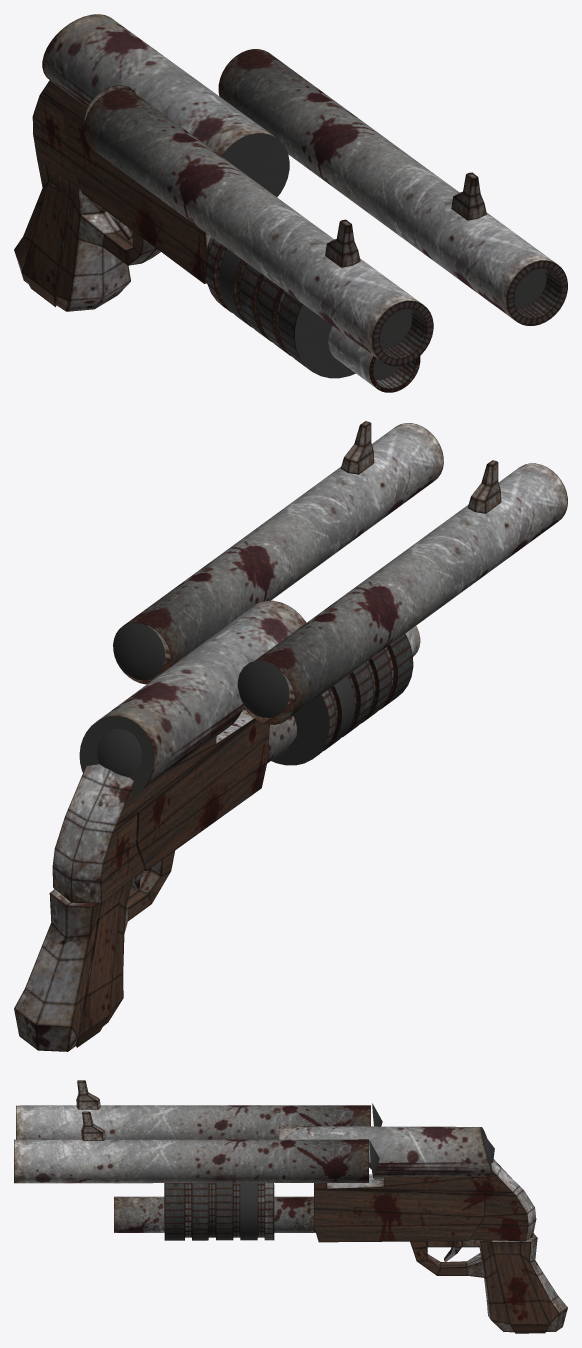
The model's file is gun.fbx.
3 renders of one model, top to bottom at view 1: azimuth 30°, elevation 25°; view 2: azimuth 150°, elevation 25°; view 3: azimuth 270°, elevation 25°, orthographic. The views are drawn at different scales.
Parts seen in each view (by area): view 1: CILINDER, pasted__CILINDER, CUBE.023, CUBE.010, CUBE.007, CILINDER.002, CILINDER.001, CUBE.025, CUBE.024; view 2: CILINDER, pasted__CILINDER, CUBE.007, CUBE.023, CUBE.010, CILINDER.002, pCone2, pCone3, pCone1, CILINDER.001, CUBE.024, CUBE.025; view 3: pasted__CILINDER, CUBE.007, CILINDER, CUBE.010, CUBE.023, CILINDER.002, CILINDER.001, CUBE.024, CUBE.025.
Boxes of the visible parts, x1,y1,x2,y2 form: CILINDER: (84,89,433,366); pasted__CILINDER: (218,49,567,325); CUBE.023: (42,14,289,197); CUBE.010: (14,160,160,311); CUBE.007: (32,80,210,283); CILINDER.002: (205,239,355,378); CILINDER.001: (207,237,420,392); CUBE.025: (451,172,486,220); CUBE.024: (325,219,360,267); CILINDER: (243,463,567,724); pasted__CILINDER: (113,423,443,684); CUBE.007: (52,708,269,903); CUBE.023: (79,600,306,796); CUBE.010: (14,851,174,1051); CILINDER.002: (271,634,413,765); pCone2: (113,622,165,680); pCone3: (237,660,289,717); pCone1: (97,729,141,777); CILINDER.001: (267,626,420,763); CUBE.024: (467,460,501,513); CUBE.025: (340,421,374,474); pasted__CILINDER: (14,1139,368,1183); CUBE.007: (314,1159,536,1242); CILINDER: (16,1105,370,1139); CUBE.010: (410,1233,567,1333); CUBE.023: (279,1126,493,1179); CILINDER.002: (164,1183,274,1240); CILINDER.001: (114,1196,315,1232); CUBE.024: (76,1080,100,1109); CUBE.025: (81,1111,105,1140).
Size of the model in its own units: 2 by 3.65 by 8.03.
